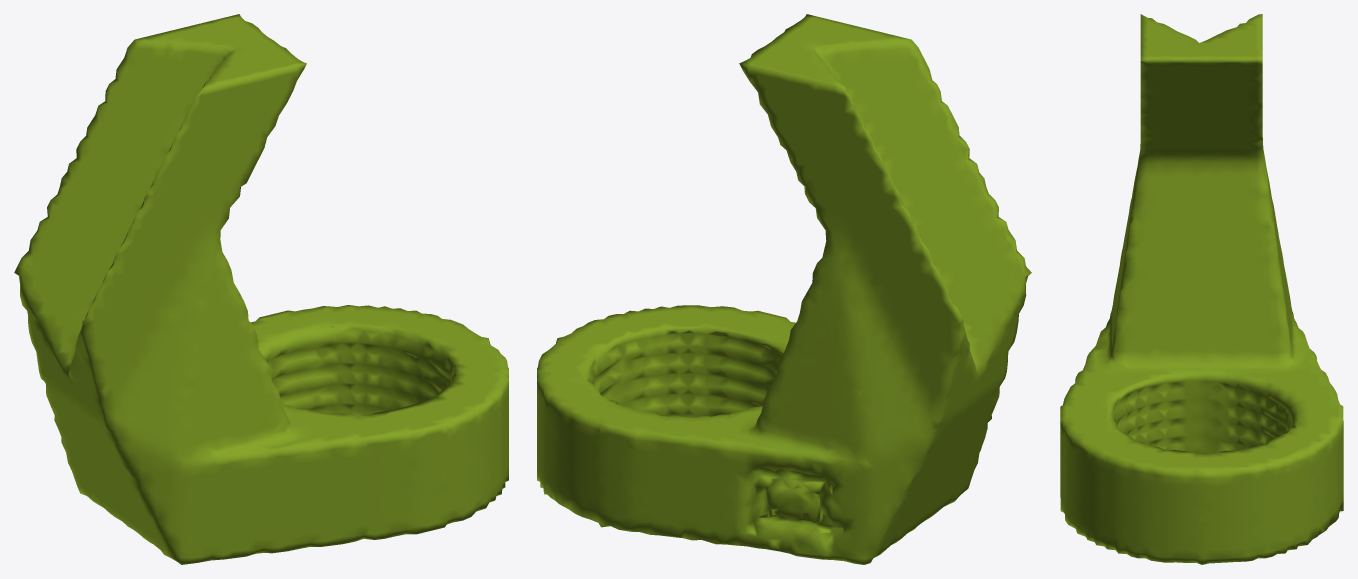
Rendered from model_decimated.obj.
3 views of the same model, side by side, from view 1: azimuth 30°, elevation 25°; view 2: azimuth 150°, elevation 25°; view 3: azimuth 270°, elevation 25° (orthographic). The views are drawn at different scales.
Bounding box in the file's own units: 45.19 × 44.5 × 27.85.
